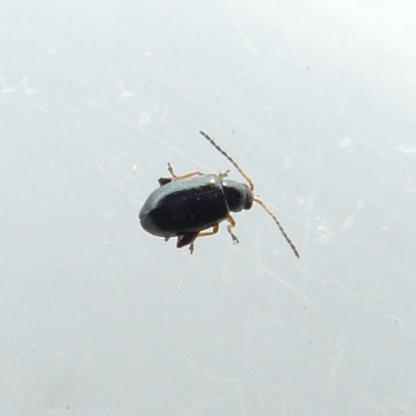beetle: (132, 133, 304, 268)
